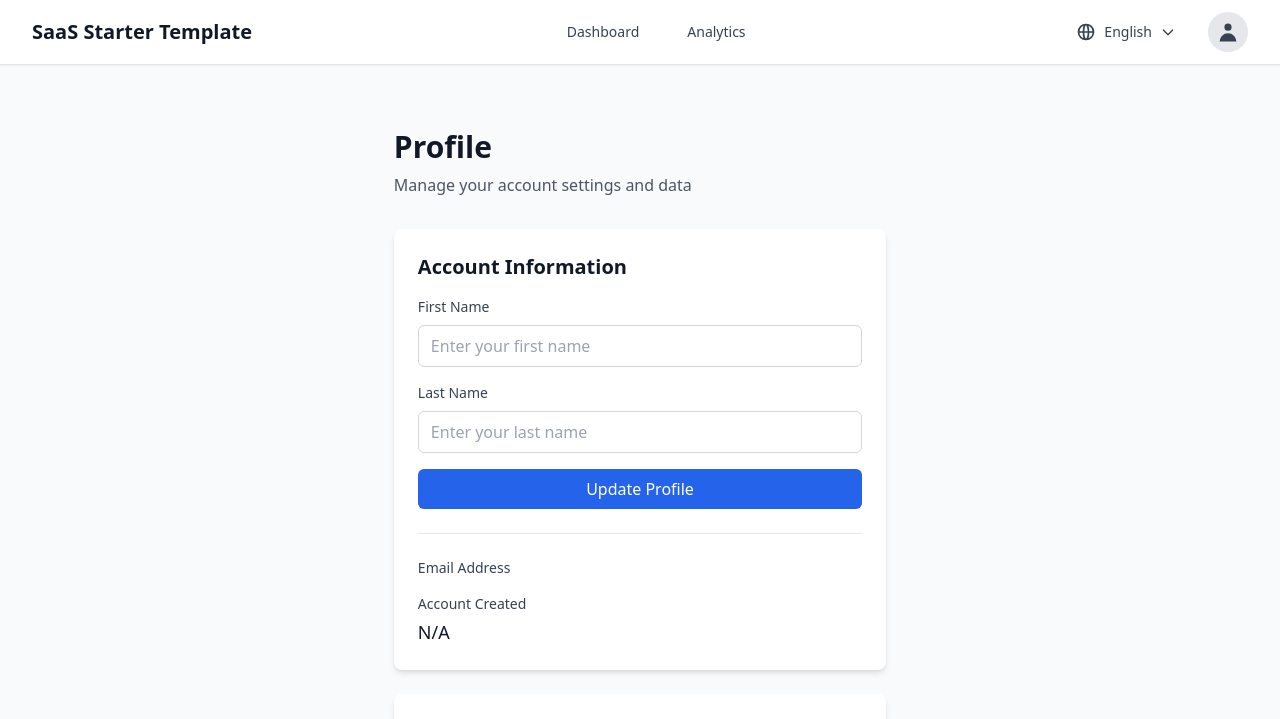
Test case: Profile - Name Editing Form › Form submission › should disable form inputs while submitting
The image size is (1280, 719).
Note: Fill in and submit the form
Type "Jane" into the field labelled "First Name". click: (640, 346)
box: [418,325,862,367]
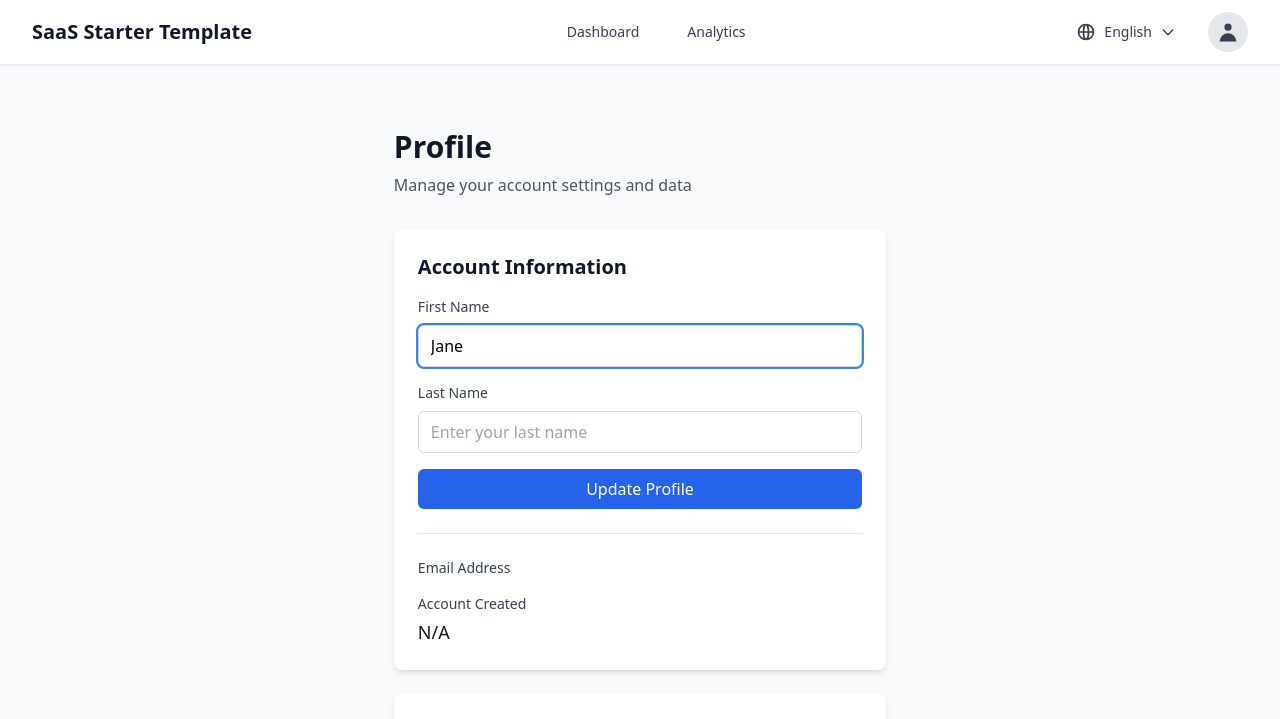
Type "Smith" into the field labelled "Last Name". click: (640, 432)
box: [418,411,862,453]
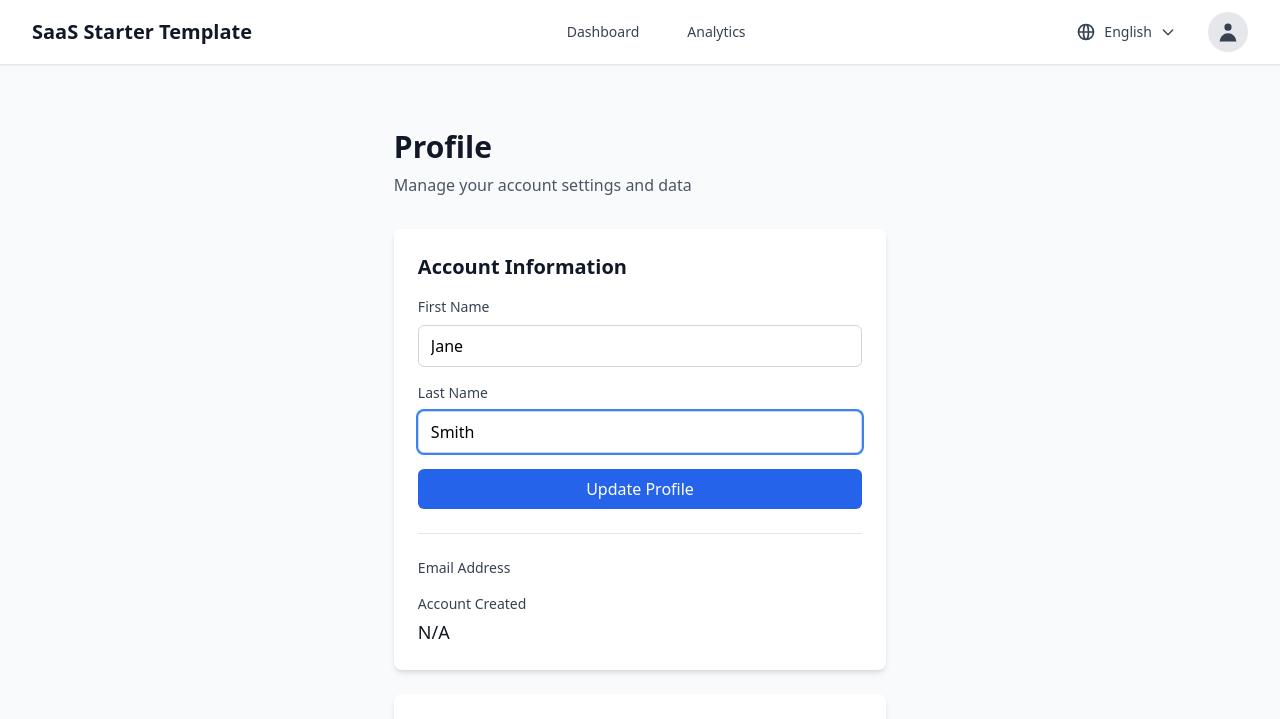
Click the button "Update Profile". click: (640, 489)
box: [418,469,862,509]
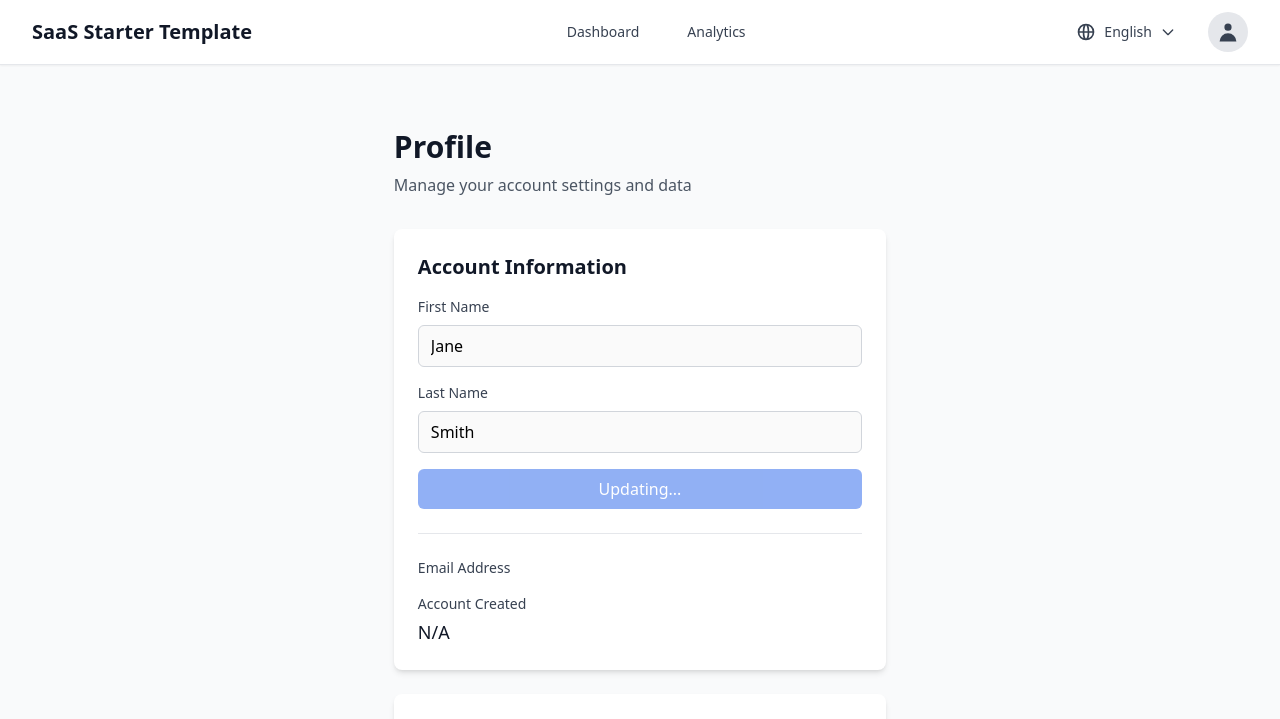
expect the field labelled "First Name" is disabled: met, box [418,325,862,367]
expect the button named "update profile" is disabled: met, box [418,469,862,509]
expect the button named "update profile" shows "Updating": met, box [418,469,862,509]
